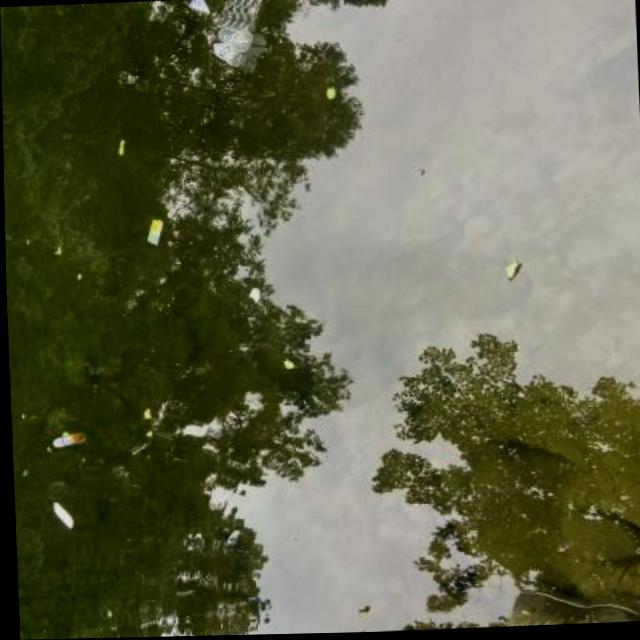Cardboard: (142, 217, 164, 247)
Plastic: (212, 0, 266, 66), (47, 430, 81, 450), (184, 0, 212, 18)
